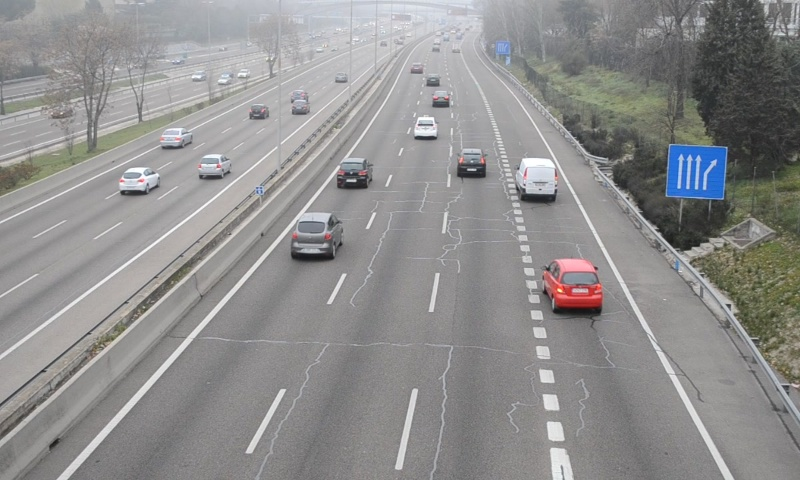car: (543, 258, 604, 310), (293, 214, 343, 255), (336, 158, 370, 188), (456, 148, 486, 176), (414, 114, 436, 139), (431, 90, 451, 106)
van: (516, 157, 558, 198)
